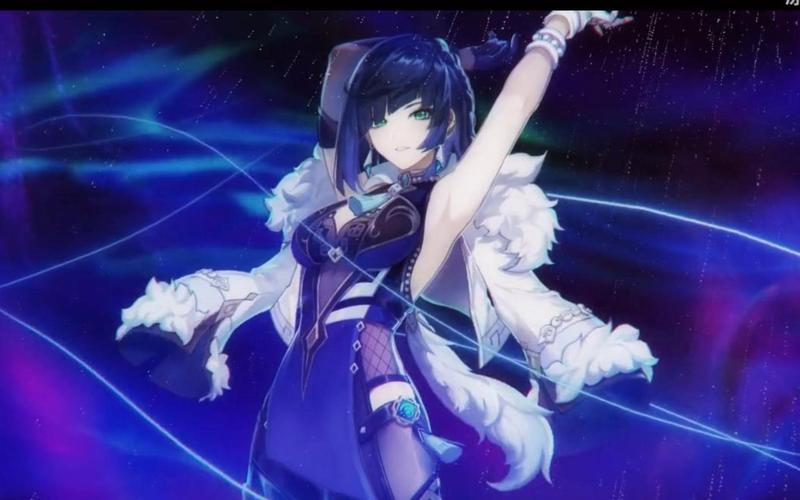夜兰: (245, 7, 632, 500)
